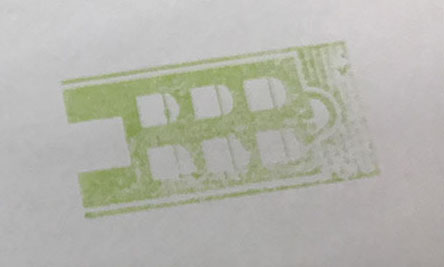build: (42, 21, 403, 225)
